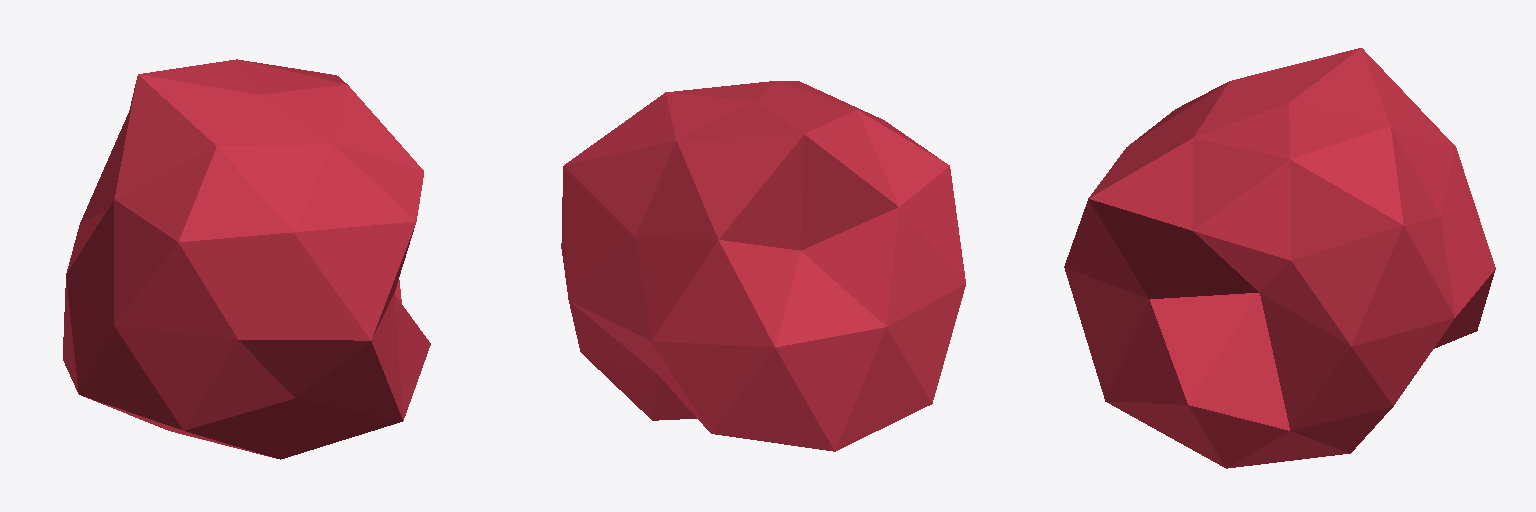
Rendered from asteroides3.obj.
3 views of the same model, side by side, from view 1: azimuth 30°, elevation 25°; view 2: azimuth 150°, elevation 25°; view 3: azimuth 270°, elevation 25° (orthographic).
Visible parts, largest first — view 1: Icosphere; view 2: Icosphere; view 3: Icosphere.
Part boxes in pixels (left/top/right/bottom): Icosphere: left=63, top=59, right=430, bottom=459; Icosphere: left=561, top=81, right=965, bottom=451; Icosphere: left=1064, top=48, right=1495, bottom=468.
Size of the model in its own units: 2.01 by 1.92 by 2.2.